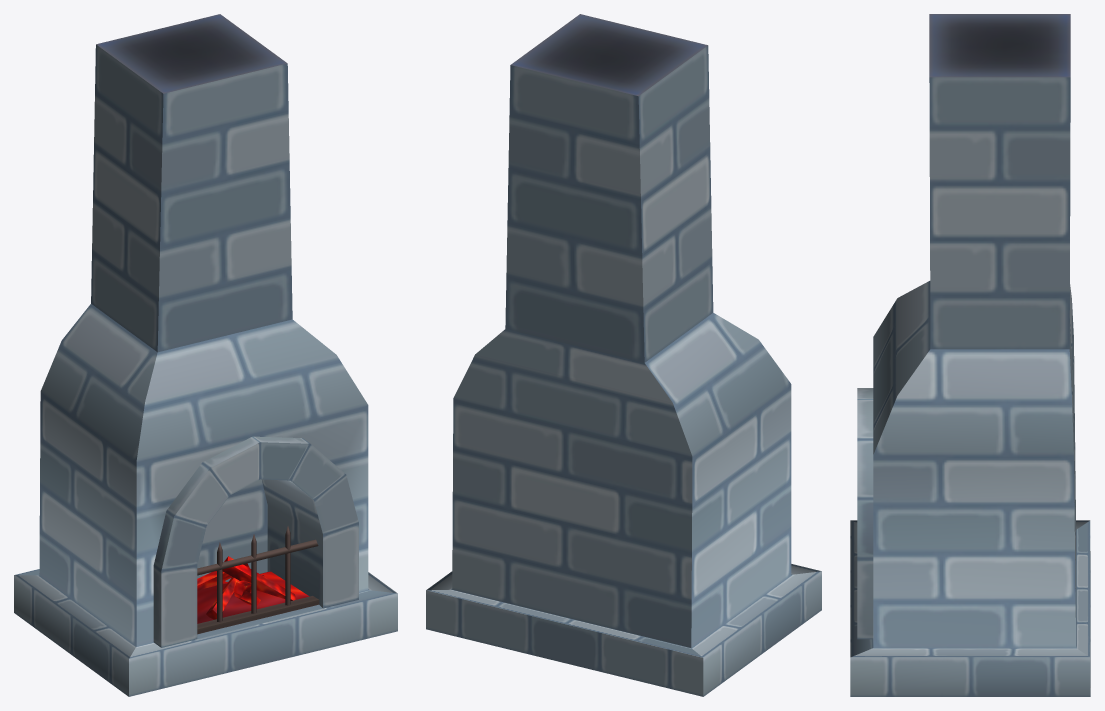
File: chimney.gltf
3 views of the same model, side by side, from view 1: azimuth 30°, elevation 25°; view 2: azimuth 150°, elevation 25°; view 3: azimuth 270°, elevation 25° (orthographic). The views are drawn at different scales.
Visible parts, largest first — view 1: Chimney07_a01; view 2: Chimney07_a01; view 3: Chimney07_a01.
Boxes of the visible parts, box(x1,y1,x2,y2) form: Chimney07_a01: box(14, 14, 397, 696); Chimney07_a01: box(426, 14, 821, 696); Chimney07_a01: box(850, 14, 1090, 696).
Bounding box in the file's own units: 1.65 × 3.28 × 1.22.
2 materials, 2 textured.
